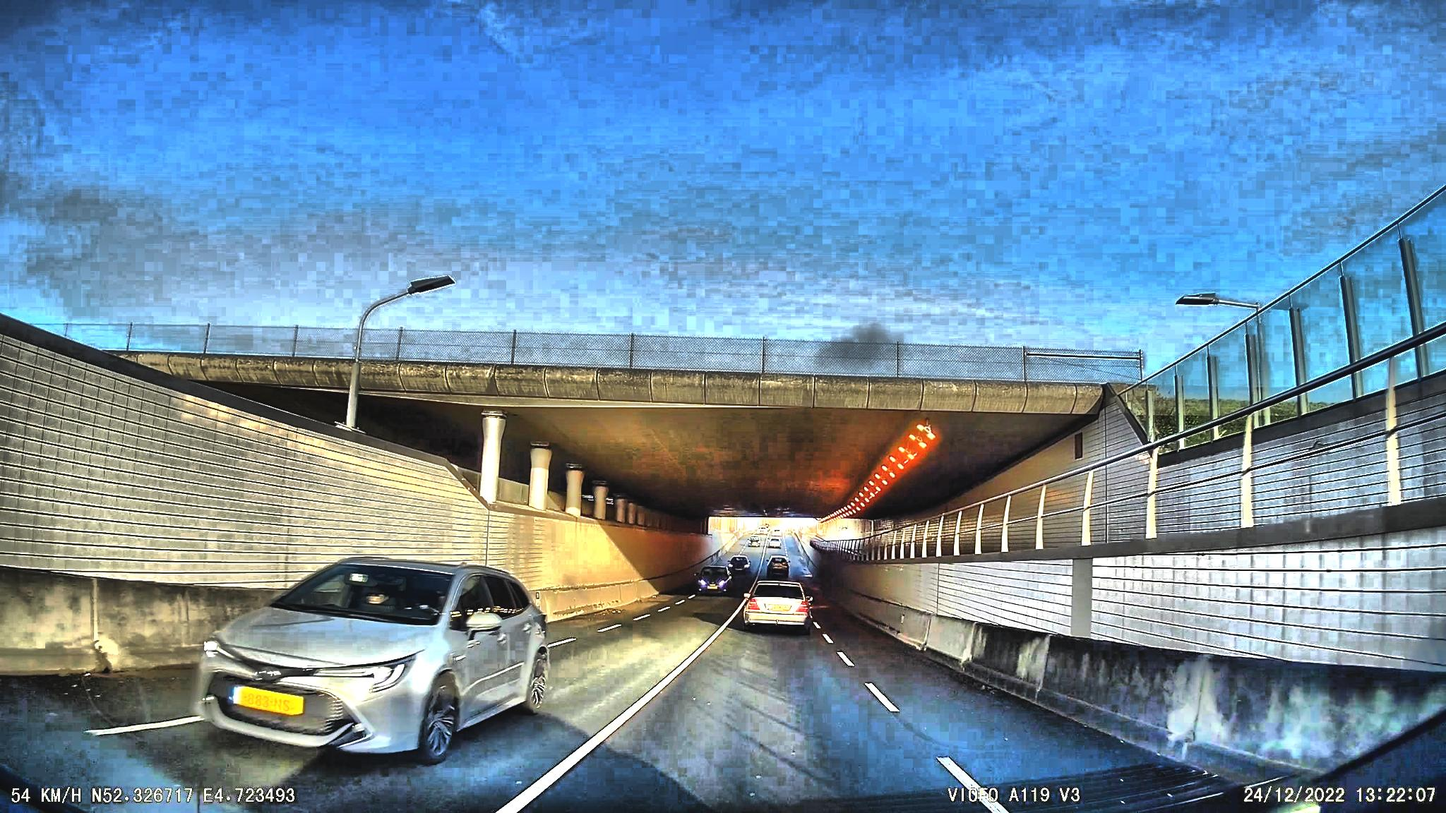Roads: (0, 596, 1257, 813)
